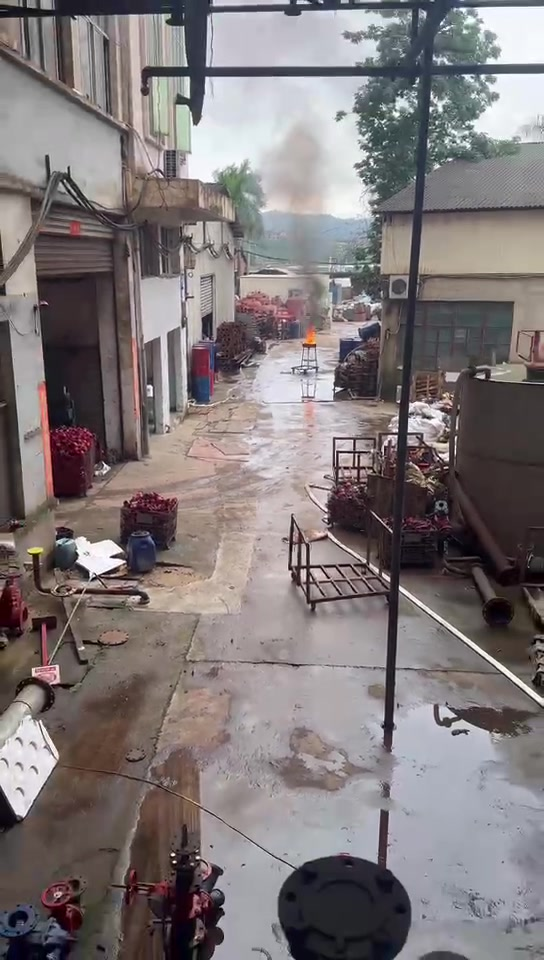fire: (305, 323, 315, 345)
